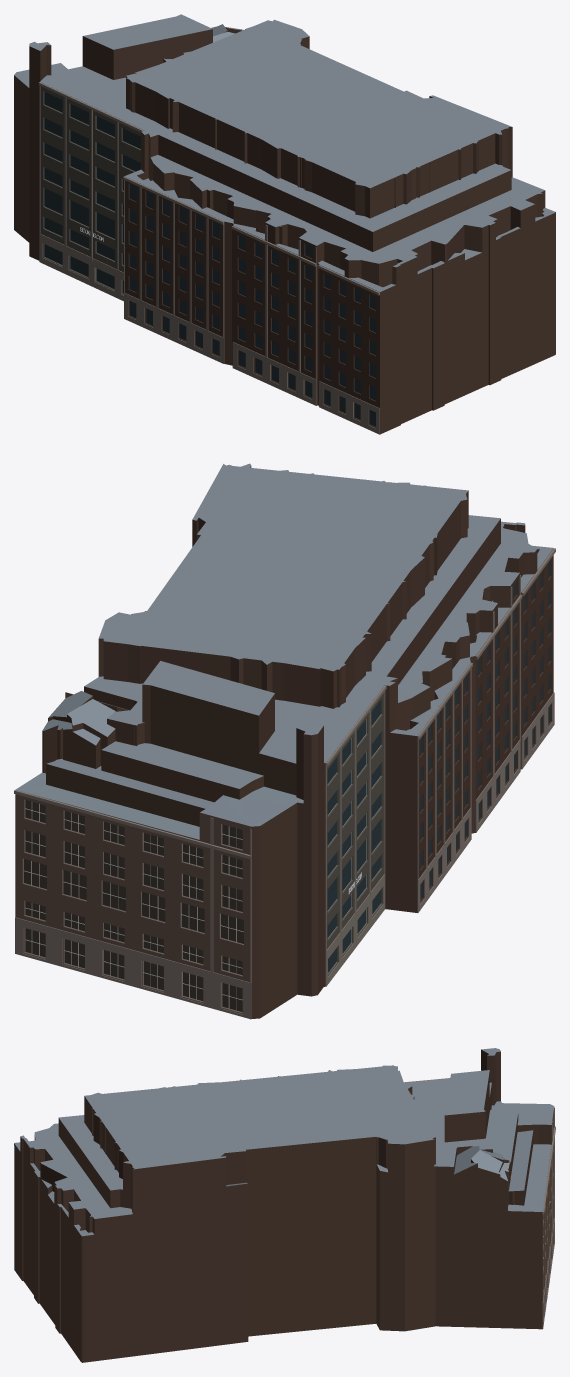
File: recipe-large-utrechtsestraat-15-169214.glb
The picture shows the model from 3 angles, top to bottom: view 1: azimuth 30°, elevation 25°; view 2: azimuth 150°, elevation 25°; view 3: azimuth 270°, elevation 25°; orthographic projection. The views are drawn at different scales.
Parts seen in each view (by area): view 1: utrechtsestraat-15-169214; view 2: utrechtsestraat-15-169214; view 3: utrechtsestraat-15-169214.
Part boxes in pixels (x1,y1,x2,y2): utrechtsestraat-15-169214: [14, 14, 555, 434]; utrechtsestraat-15-169214: [14, 463, 555, 1019]; utrechtsestraat-15-169214: [14, 1048, 555, 1362].
Bounding box in the file's own units: 52.22 × 35.62 × 93.55.
